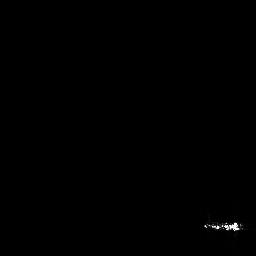ship: (203, 219, 244, 232)
